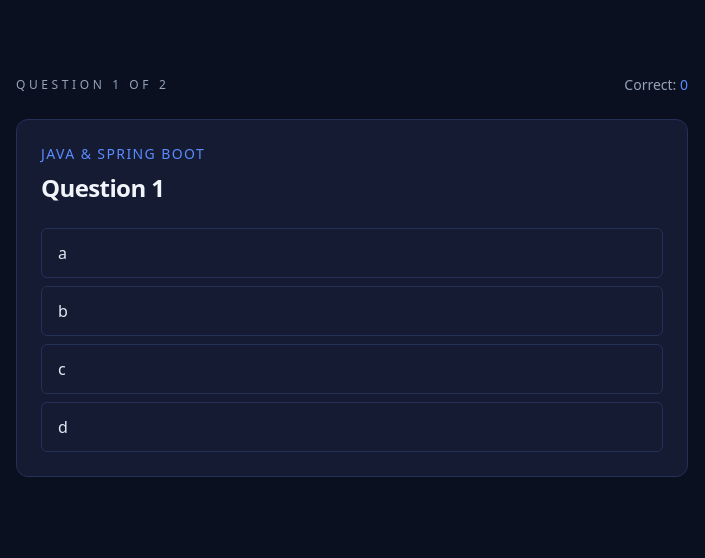
Test: practice screen › reveals the outcome and explanation, then moves on
Click the button "b" at (63, 311), box [41,286,663,336]
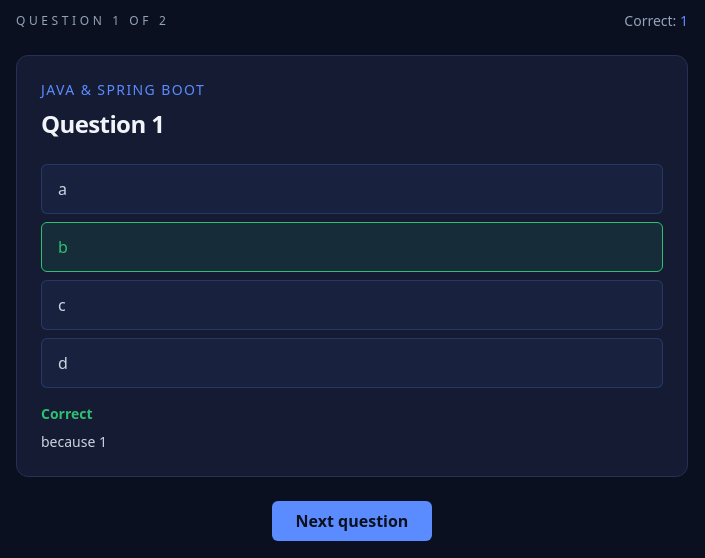
expect the text "Correct" is shown: met, box [41,404,93,423]
expect the text "because 1" is shown: met, box [41,432,107,451]
expect the button "b" is disabled: met, box [41,222,663,272]
Click the button "Next question" at (352, 521), box [272,501,432,541]
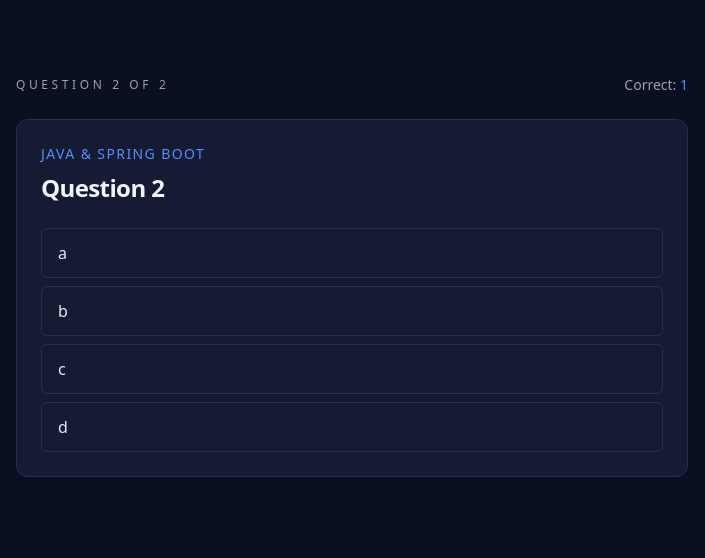
expect the heading "Question 2" is shown: met, box [41,171,164,204]
expect the text "because 1" is gone: met
